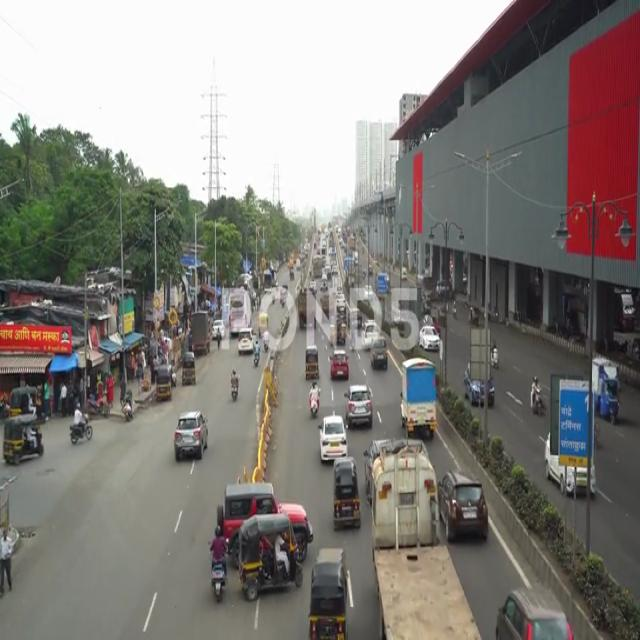car: (440, 477, 492, 547), (172, 408, 210, 468), (319, 416, 346, 463), (344, 383, 376, 422)
motorbike: (209, 524, 231, 608), (307, 381, 321, 423), (228, 368, 242, 406)
rikshaw: (240, 515, 304, 608), (311, 554, 353, 640), (332, 457, 361, 529)
truck: (368, 437, 442, 640), (395, 354, 436, 436), (594, 355, 626, 429)
